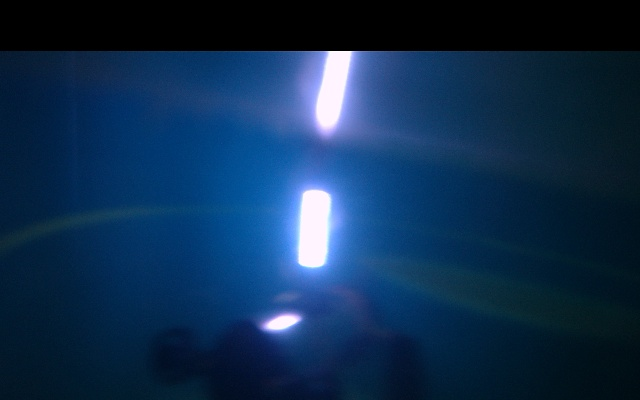white: (297, 189, 331, 274)
